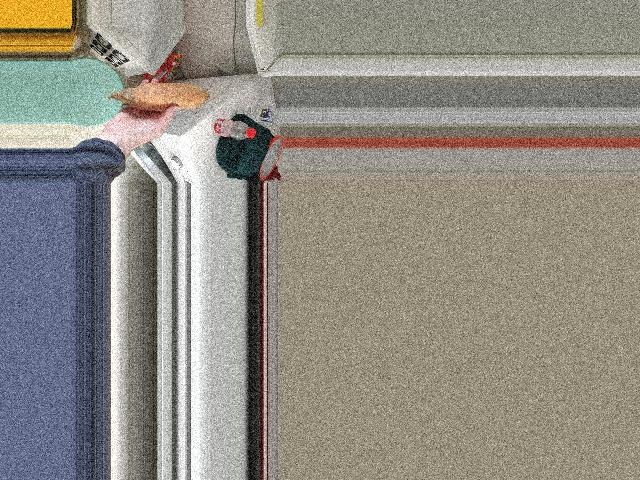sweet_potato: (122, 87, 196, 109)
